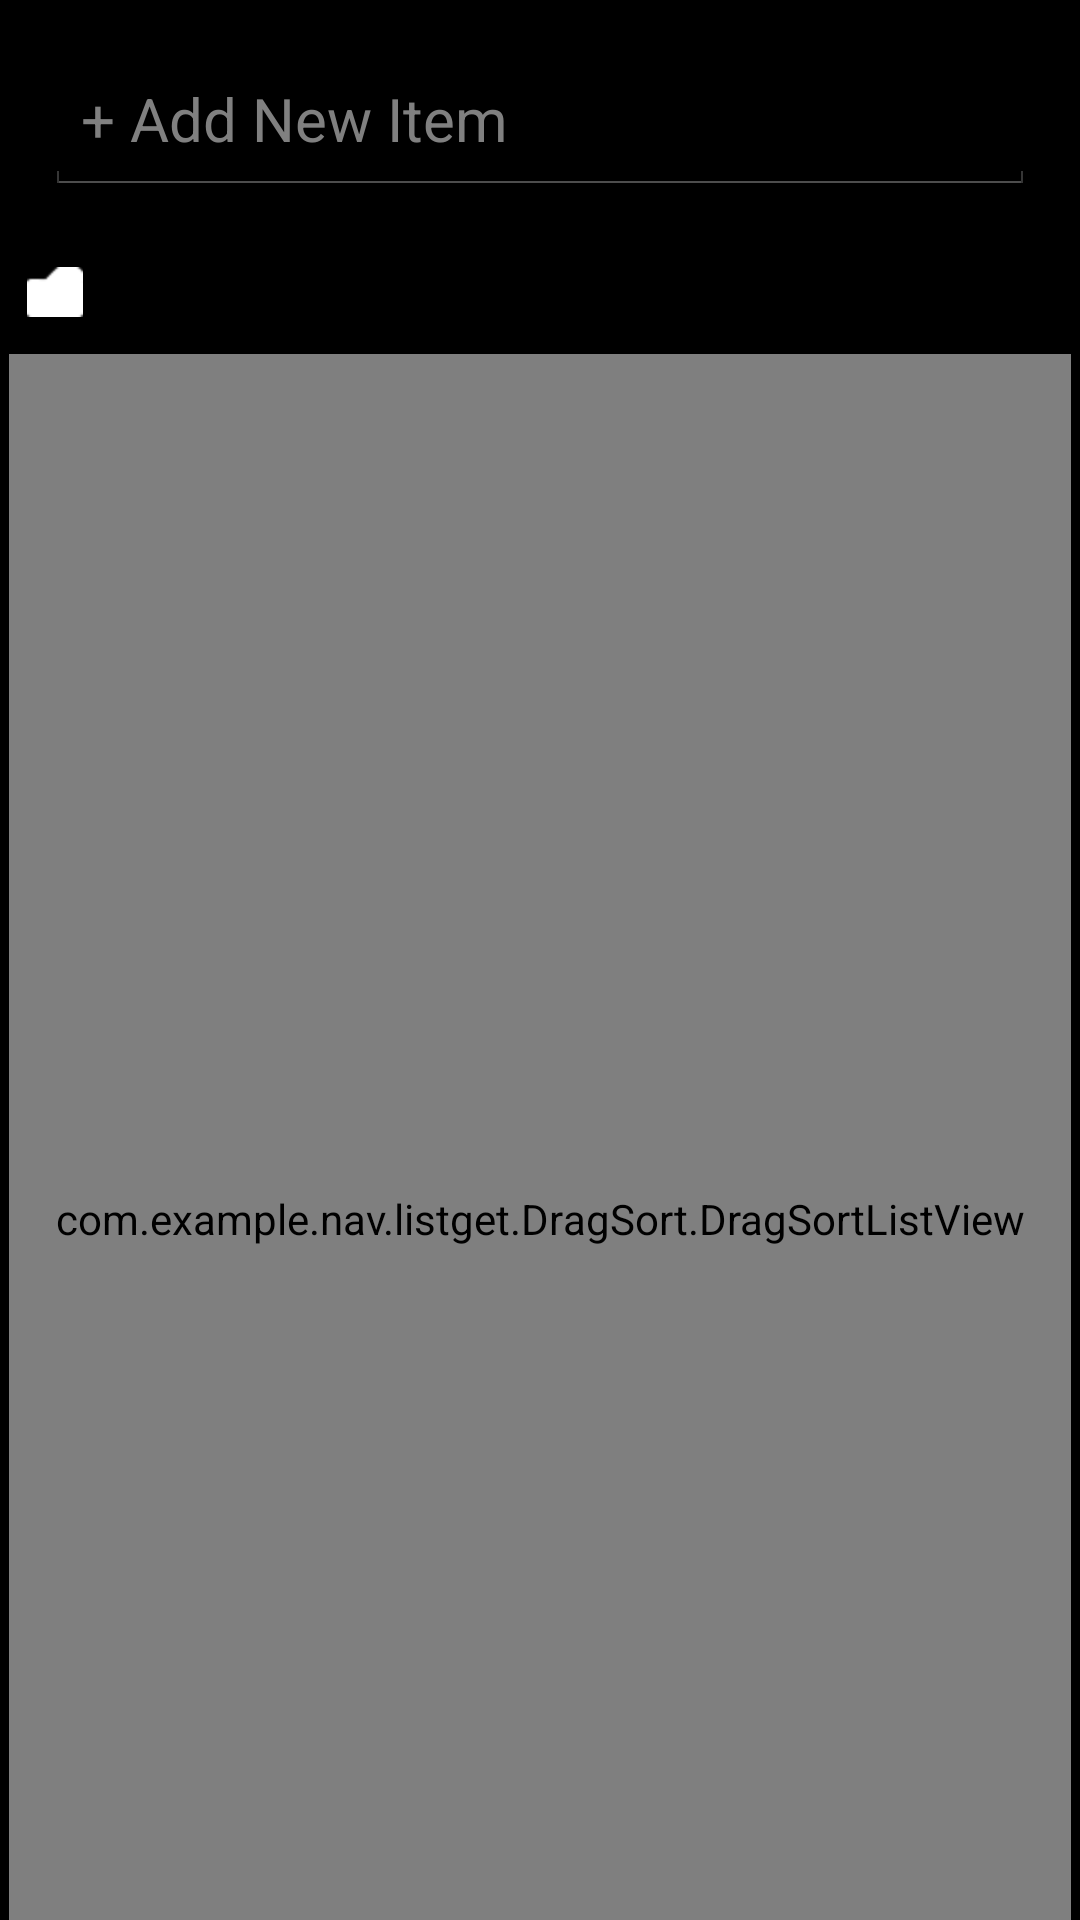

Screen size 1080px x 1920px. Icon name, then its box in pixels as (x1, y1, x2, y2):
cate: (27, 267, 83, 317)
